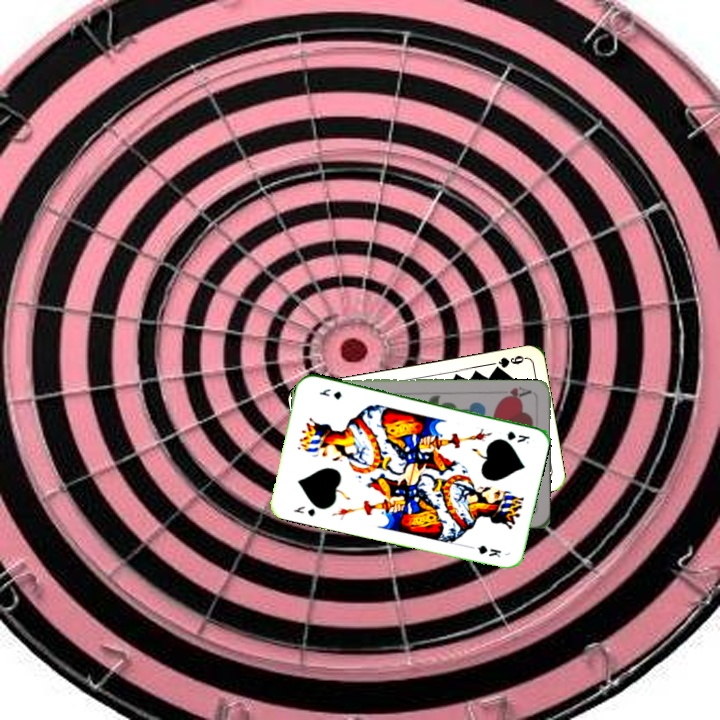G9: (489, 351, 529, 374)
GK: (503, 427, 532, 446), (290, 502, 318, 519)
HA: (495, 383, 534, 403)
